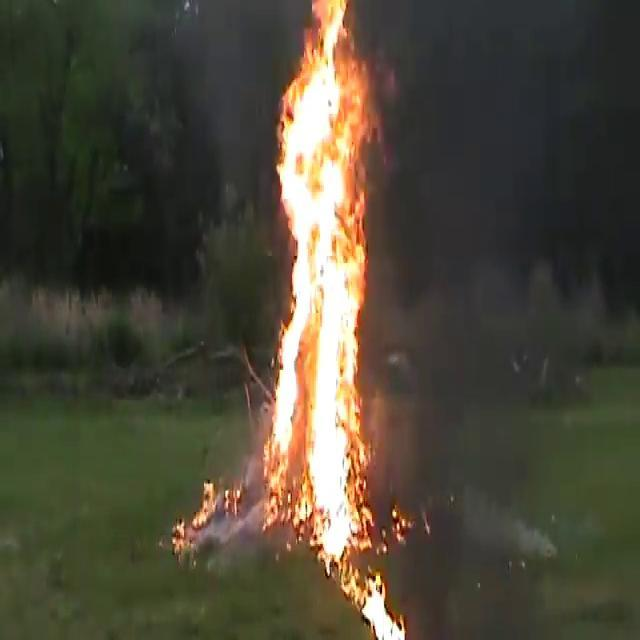Fire: (258, 2, 405, 604)
Smoke: (372, 0, 640, 379)
